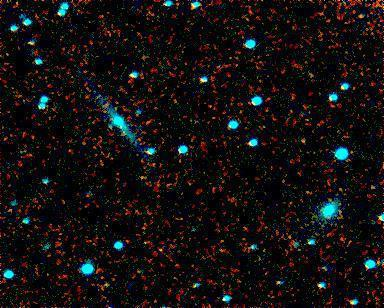star: (290, 124, 320, 154)
